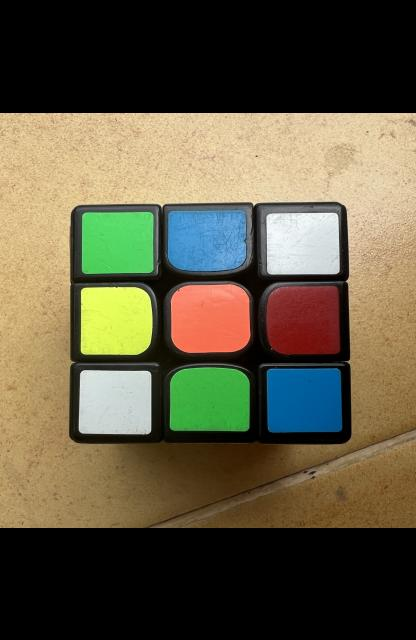Blue: (168, 208, 247, 270), (267, 368, 342, 432)
Green: (169, 367, 249, 430), (82, 211, 154, 273)
Orange: (170, 283, 250, 352)
Red: (267, 285, 340, 354)
White: (78, 369, 152, 434), (267, 212, 339, 273)
Yellow: (80, 286, 153, 354)
